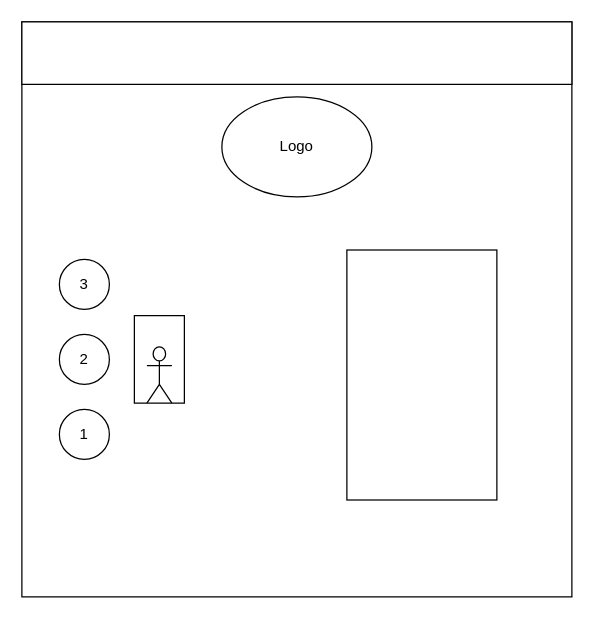
This 594x619 diagram has some shape labels left out. Each missing label, with the centre of its shape:
"Home About Project Plan" belongs at pixel 296 52.
"Login: username password Login Request Acess" belongs at pixel 421 374.
